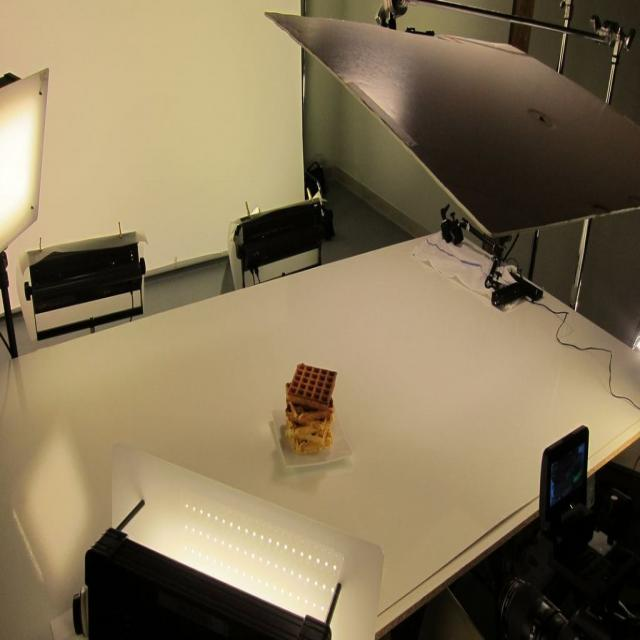desk: (0, 220, 639, 610)
